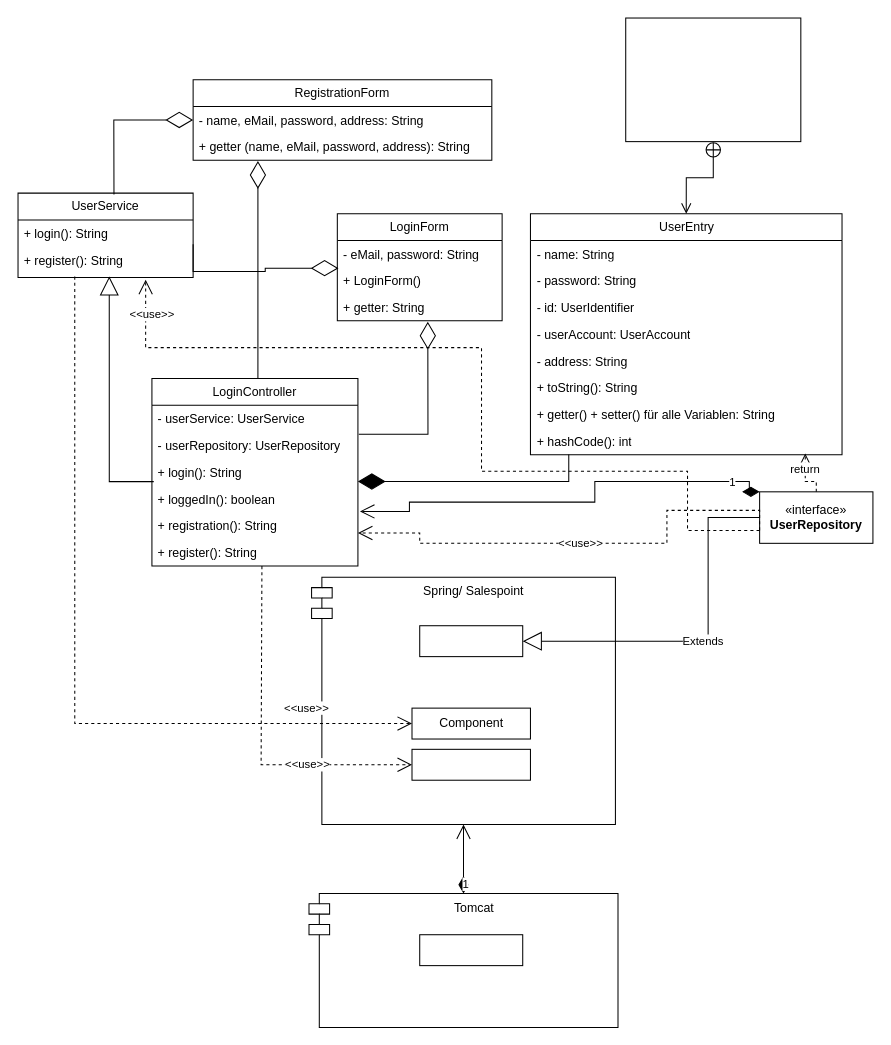
Image size: 891x1045. Some labels were removed from this diagram. Each missing label, with the centre of its shape:
Crud-Repository: point 471,641
HTTP-Session: point 471,950
Model: point 470,764
UserIdentifier - serialVersionUID : Long + hasCode(): int + equals(): boolean: point 713,79
